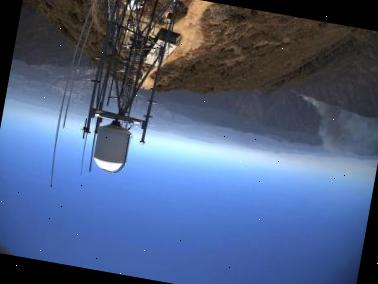smoke: (292, 93, 378, 169)
